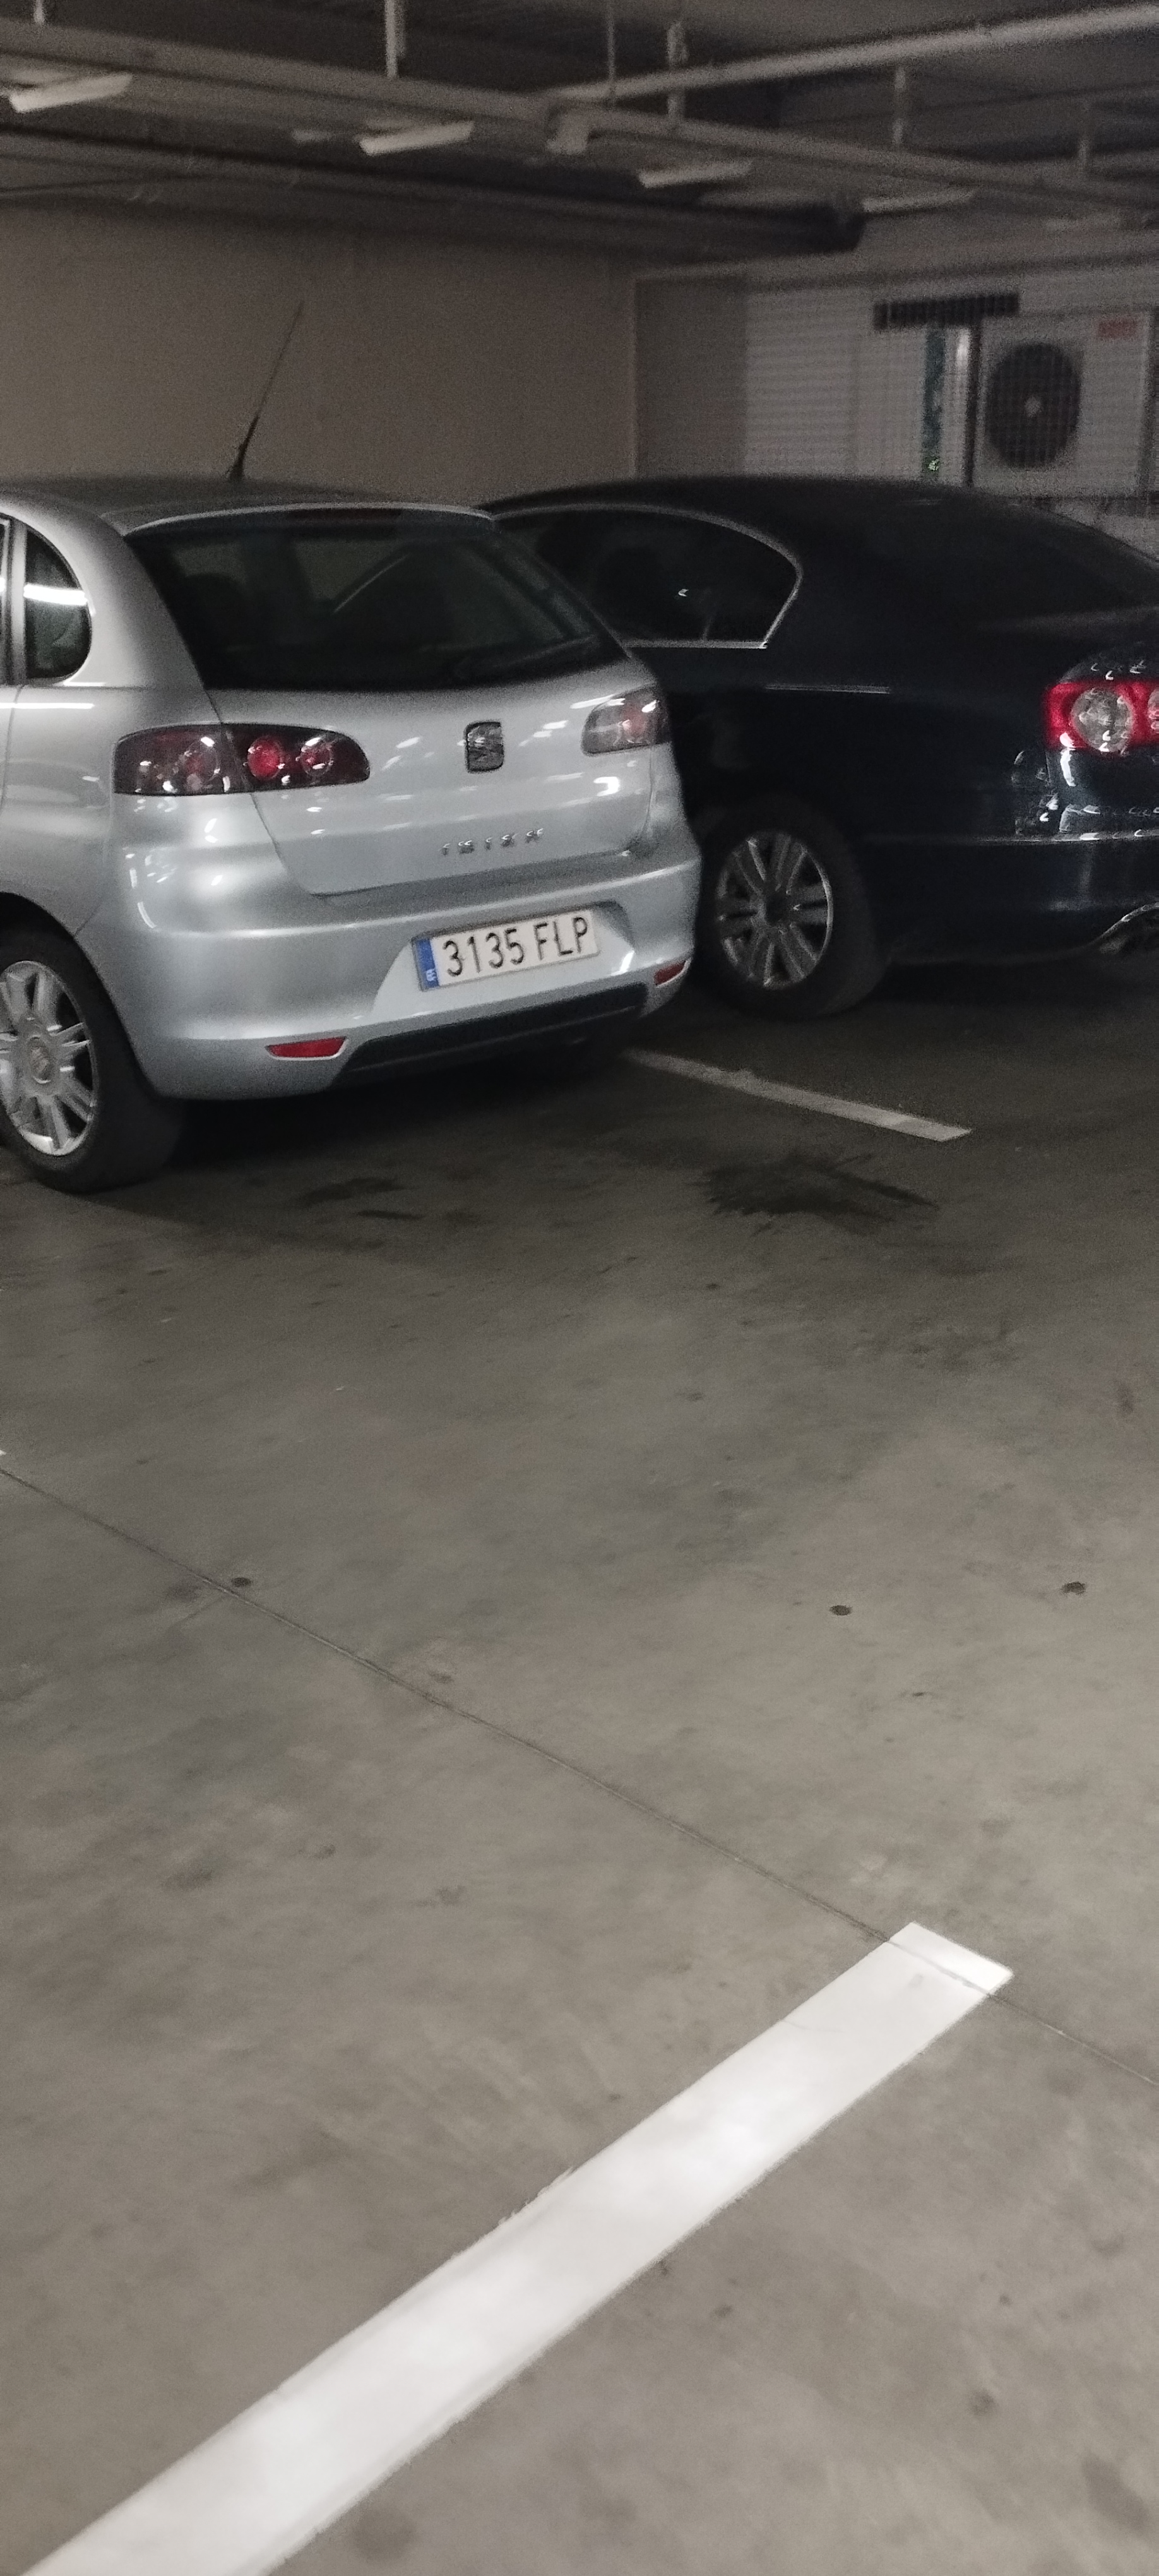Car: (0, 463, 707, 1154)
Plate: (409, 937, 612, 991)
